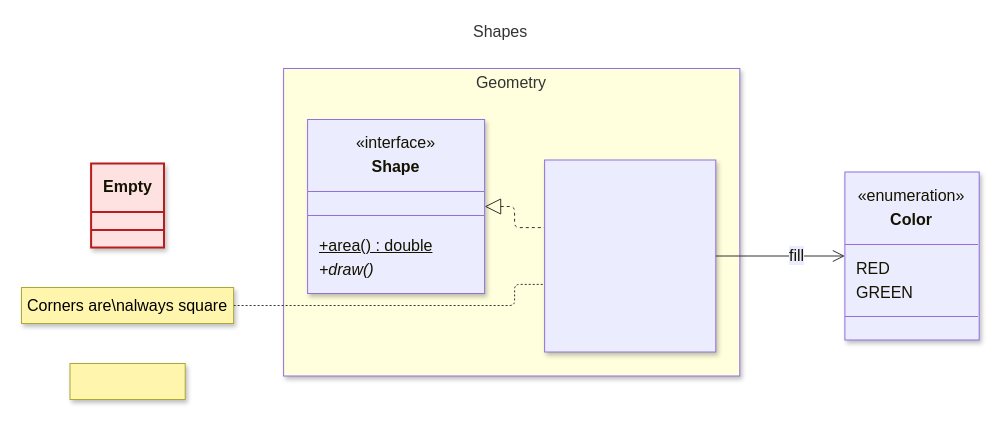
This 1003x424 diagram has some shape labels left out. Each missing label, with the centre of its shape:
A general note: (128,382)
Square<T> -List<T> points +String name #side double ~internal(): (631,257)
